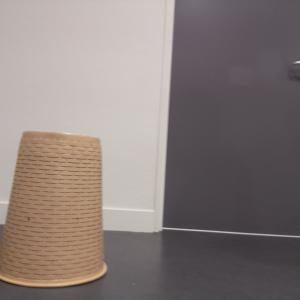medium: (1, 133, 106, 286)
